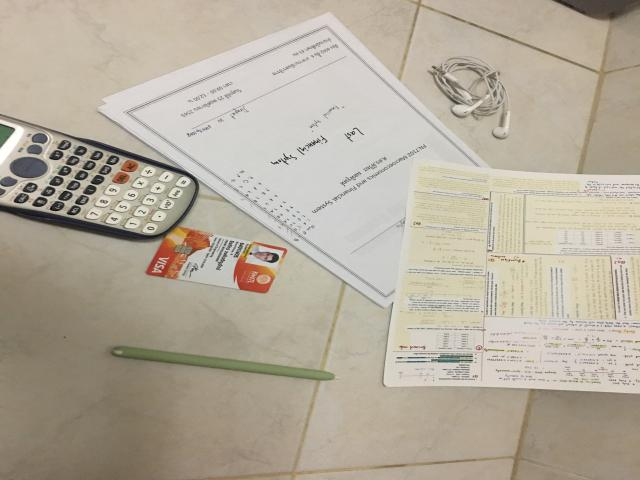paper: (100, 13, 535, 307), (385, 159, 638, 393)
wire: (433, 56, 510, 139)
